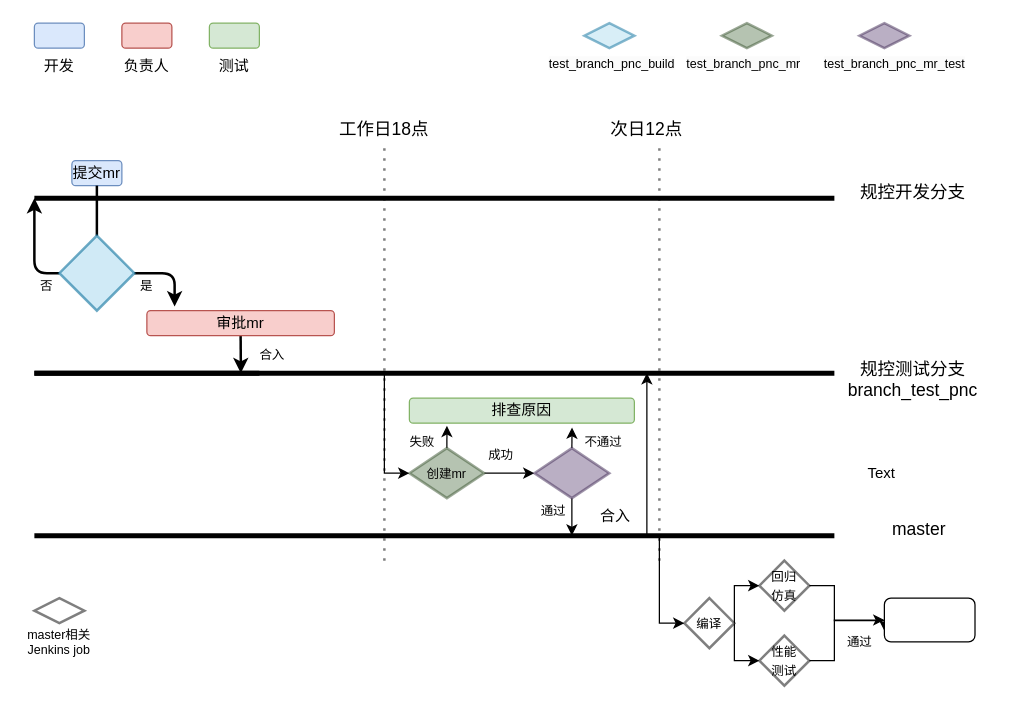
Image size: 1015x708. Some labels were removed from this diagram. The centre of each missing label's shape, as x and y in pixels:
发版: the point at 929,619
回归仿真: the point at 571,472
编译+仿真 通过: the point at 96,272
